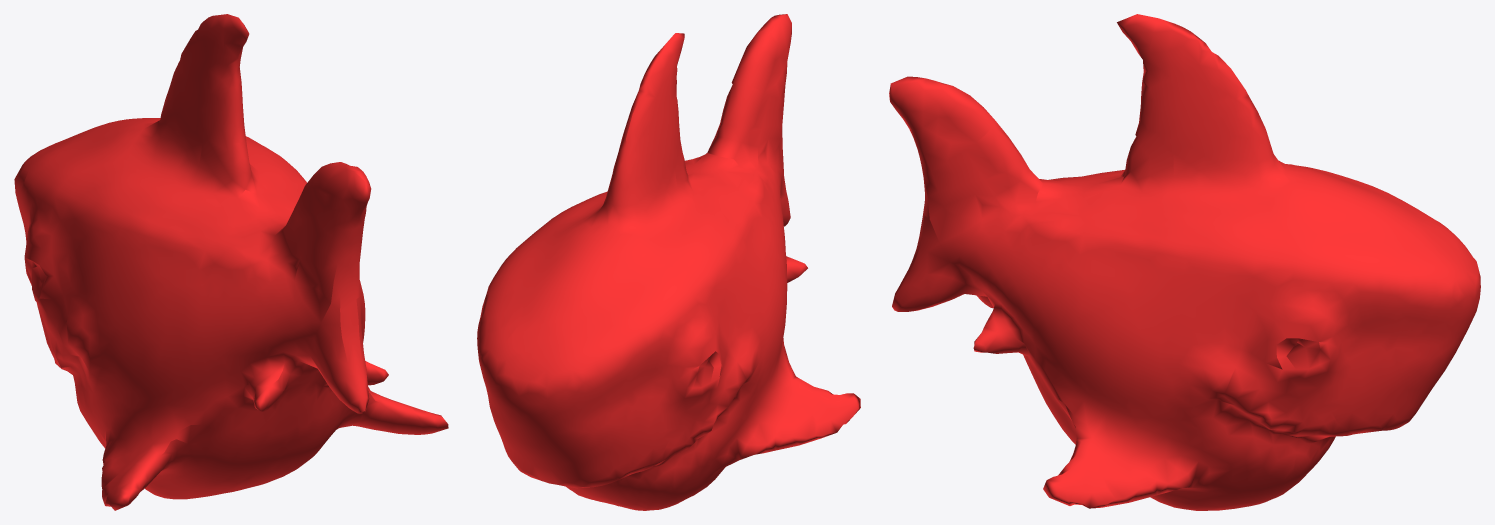
The model's file is TiburonRojo.glb.
3 renders of one model, left to right at view 1: azimuth 30°, elevation 25°; view 2: azimuth 150°, elevation 25°; view 3: azimuth 270°, elevation 25°, orthographic. The views are drawn at different scales.
Parts seen in each view (by area): view 1: prim0; view 2: prim0; view 3: prim0.
Part boxes in pixels (x1,y1,x2,y2): prim0: (14, 14, 448, 510); prim0: (477, 14, 860, 510); prim0: (889, 14, 1480, 510).
Size of the model in its own units: 0.6092 by 0.8607 by 0.9672.
